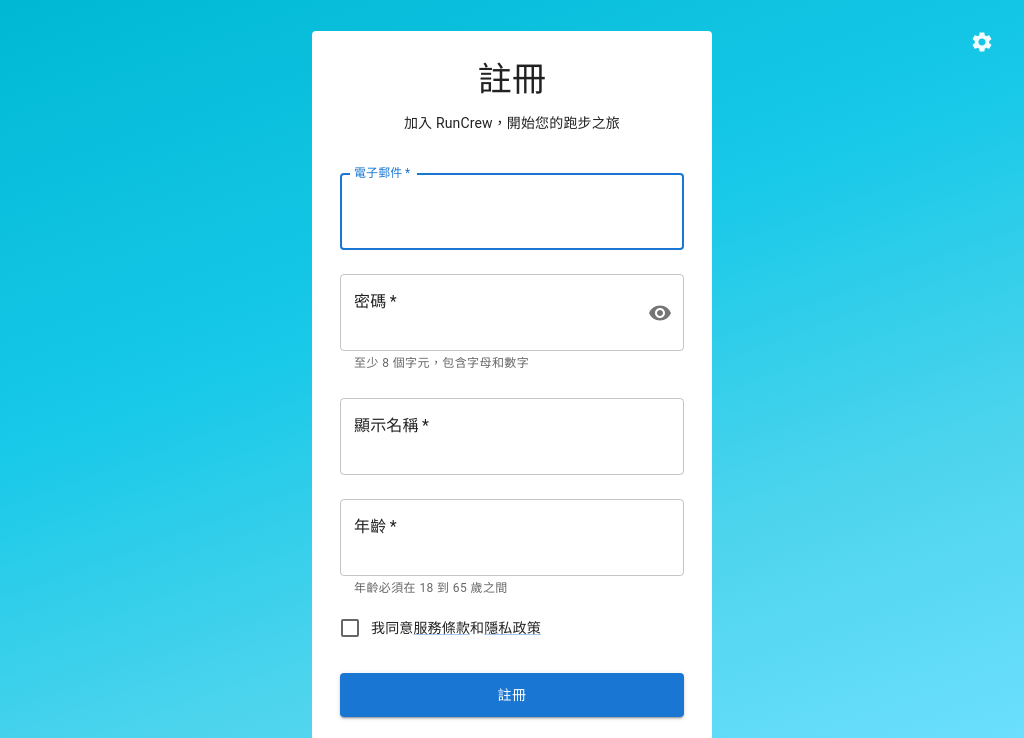
Test case: RegisterPage › validates email format
Type "invalid-email" into the field labelled "電子郵件 *" at coordinates (512, 212), box [340,173,684,250]
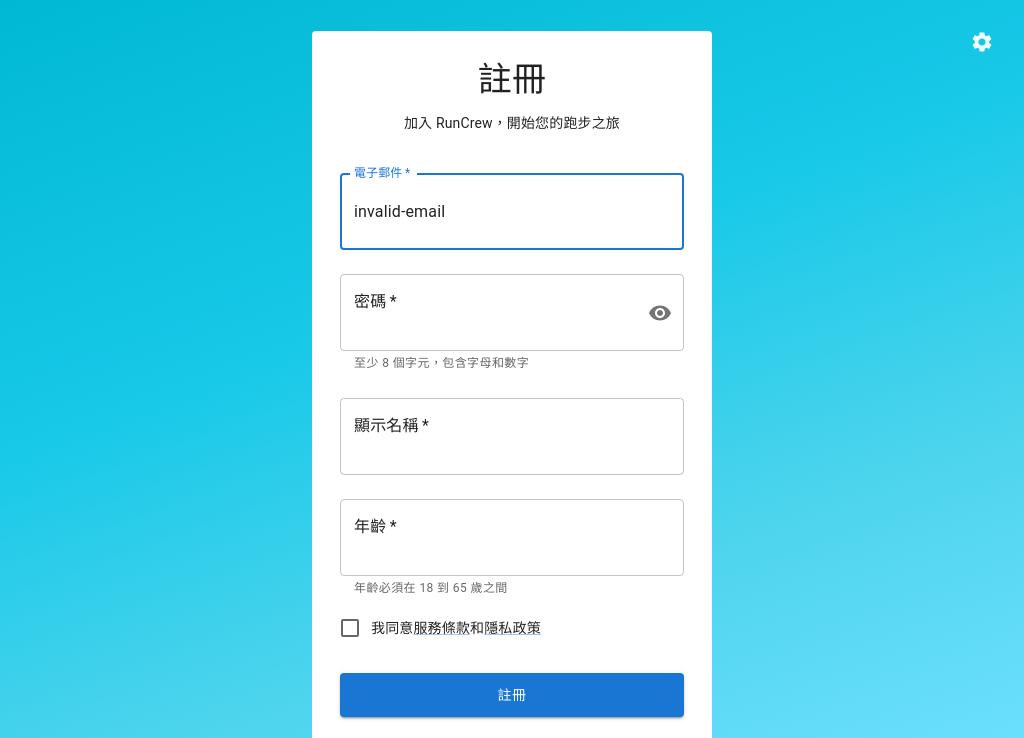
Click the button "註冊" at coordinates (512, 695), box [340,673,684,717]
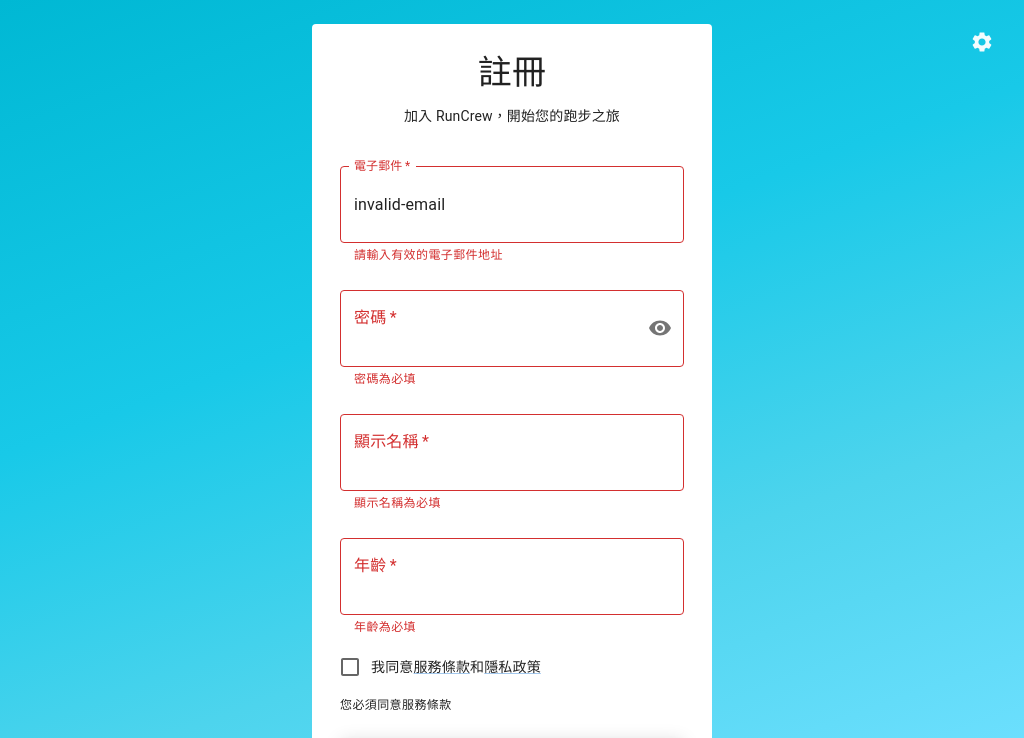
Check: the text "請輸入有效的電子郵件地址" is shown, box [354,248,503,262]
